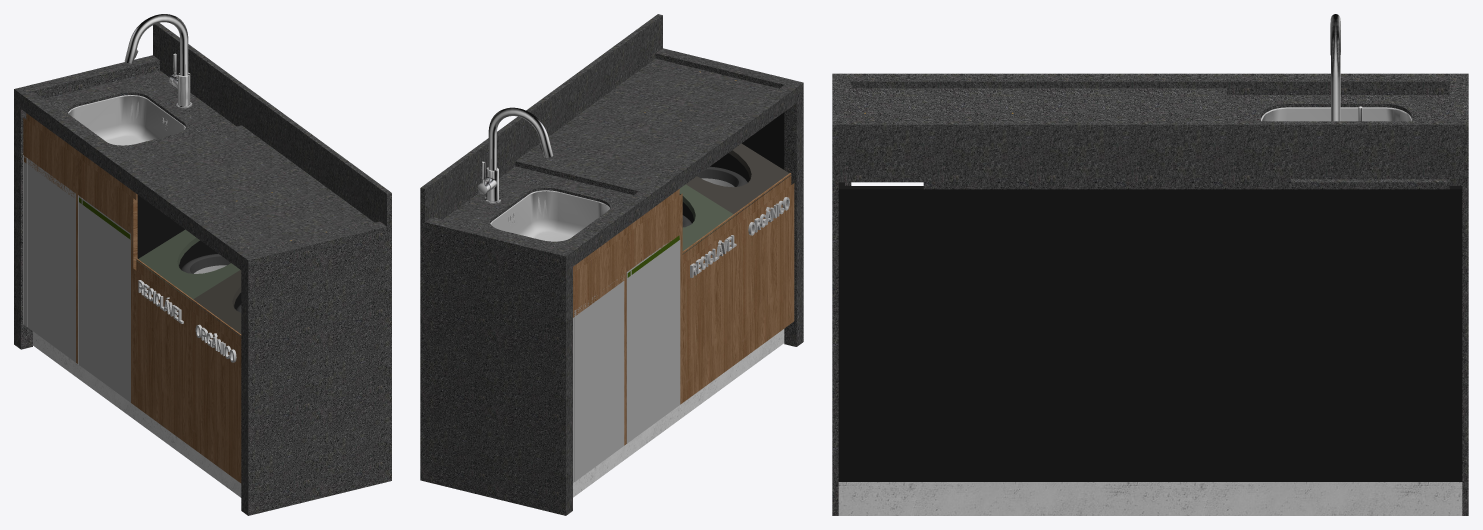
Rendered from BalcãoCopa.fbx.
3 renders of one model, left to right at view 1: azimuth 30°, elevation 25°; view 2: azimuth 150°, elevation 25°; view 3: azimuth 270°, elevation 25°, orthographic. The views are drawn at different scales.
Parts seen in each view (by area): view 1: group_.354, PORTA#3, PORTA#3.001, PORTA PUX%2E HOR%2E NEO 36#4, PORTA PUX%2E HOR%2E NEO 36#5, group_ 2.247, PORTA PUX%2E HOR%2E NEO 36#3, group_ 7.068, PORTA PUX%2E HOR%2E NEO 36#3.001, group_ 8.065, group_ 3.133, group_ 9.057 (+6 smaller); view 2: group_.354, PORTA#3, PORTA#3.001, PORTA PUX%2E HOR%2E NEO 36#5, PORTA PUX%2E HOR%2E NEO 36#4, group_ 2.247, PORTA PUX%2E HOR%2E NEO 36#3.001, group_ 7.068, PORTA PUX%2E HOR%2E NEO 36#3, group_ 9.057, group_ 5.089, group_ 8.065 (+5 smaller); view 3: group_ 6.074, group_ 7.067, group_.354, group_ 7.068, group_.357, group_ 5.089, group_ 3.133, group_ 2.247, skp18F9.
Part boxes in pixels (x1,y1,x2,y2): group_.354: [14, 23, 391, 515]; PORTA#3: [79, 202, 130, 402]; PORTA#3.001: [24, 162, 75, 362]; PORTA PUX%2E HOR%2E NEO 36#4: [133, 258, 192, 444]; PORTA PUX%2E HOR%2E NEO 36#5: [188, 299, 241, 483]; group_ 2.247: [68, 95, 185, 145]; PORTA PUX%2E HOR%2E NEO 36#3: [78, 153, 137, 404]; group_ 7.068: [33, 331, 241, 497]; PORTA PUX%2E HOR%2E NEO 36#3.001: [23, 113, 81, 363]; group_ 8.065: [136, 229, 239, 300]; group_ 3.133: [137, 195, 217, 269]; group_ 9.057: [191, 270, 241, 336]; group_.354: [420, 14, 803, 515]; PORTA#3: [627, 240, 680, 442]; PORTA#3.001: [573, 281, 624, 482]; PORTA PUX%2E HOR%2E NEO 36#5: [734, 173, 794, 361]; PORTA PUX%2E HOR%2E NEO 36#4: [682, 214, 738, 402]; group_ 2.247: [490, 190, 609, 241]; PORTA PUX%2E HOR%2E NEO 36#3.001: [573, 230, 626, 445]; group_ 7.068: [573, 329, 784, 497]; PORTA PUX%2E HOR%2E NEO 36#3: [623, 189, 682, 404]; group_ 9.057: [686, 143, 790, 215]; group_ 5.089: [710, 112, 784, 182]; group_ 8.065: [679, 184, 735, 254]; group_ 6.074: [845, 186, 1150, 474]; group_ 7.067: [1157, 186, 1462, 474]; group_.354: [832, 73, 1468, 515]; group_ 7.068: [838, 482, 1462, 515]; group_.357: [838, 475, 1462, 481]; group_ 5.089: [838, 182, 844, 474]; group_ 3.133: [1150, 189, 1156, 474]; group_ 2.247: [1261, 107, 1411, 121]; skp18F9: [1330, 14, 1340, 121].
Size of the model in its own units: 106 by 241 by 300.
Materials: 14 (5 with a texture image).
